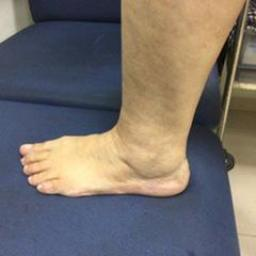Lateral View -Left Foot-: (13, 81, 211, 207)
